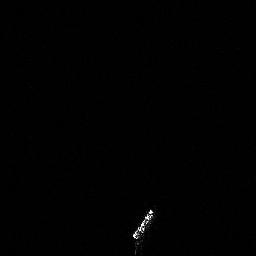ship: (128, 206, 159, 243)
